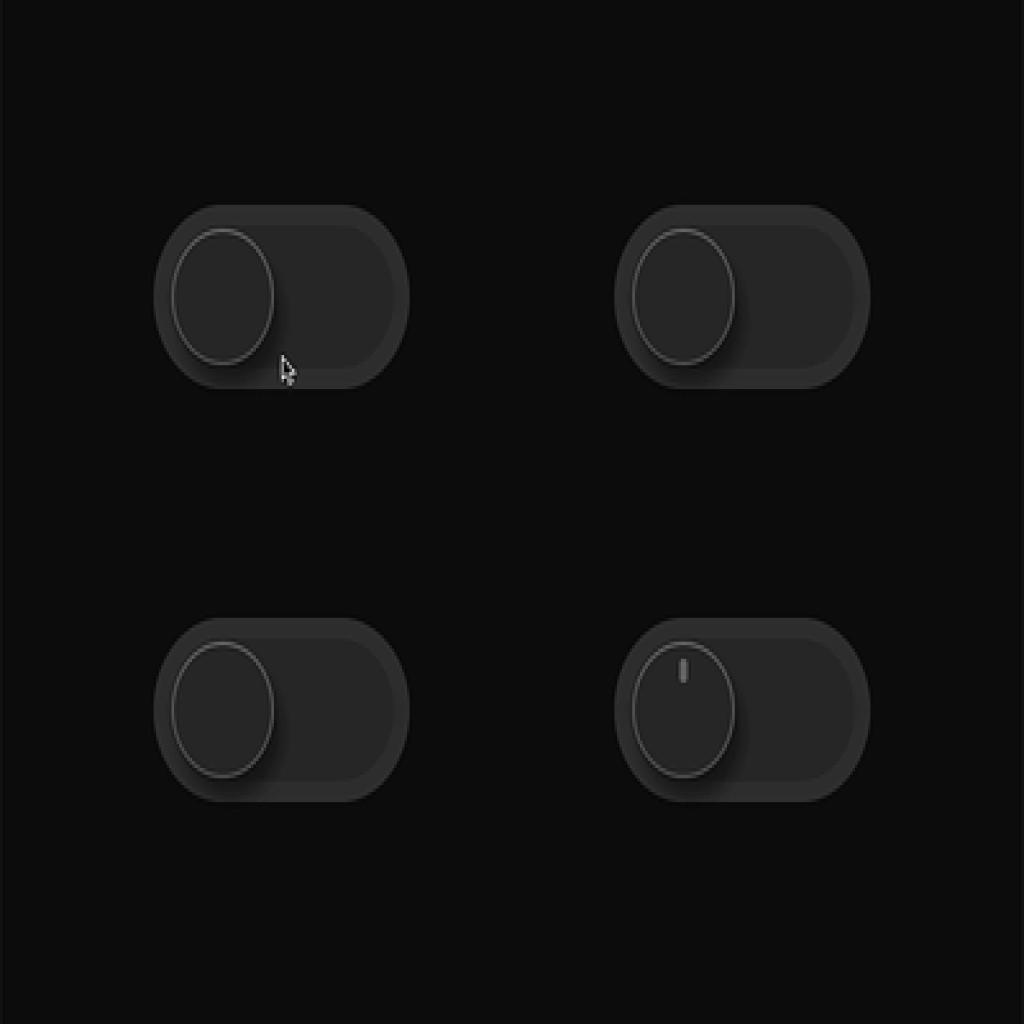switch: (614, 204, 869, 390), (617, 615, 871, 801), (153, 206, 409, 389), (159, 622, 407, 802)
